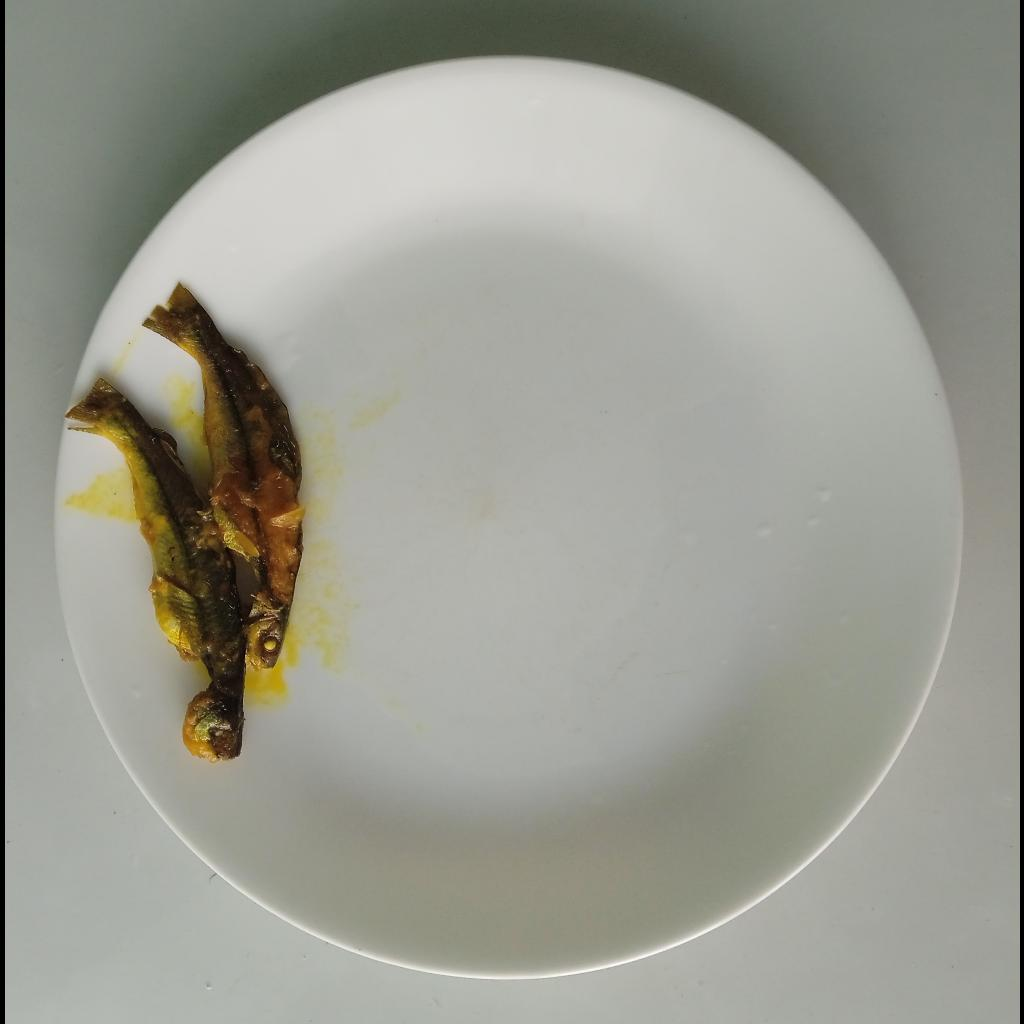fish: (62, 377, 244, 762), (139, 278, 305, 673)
